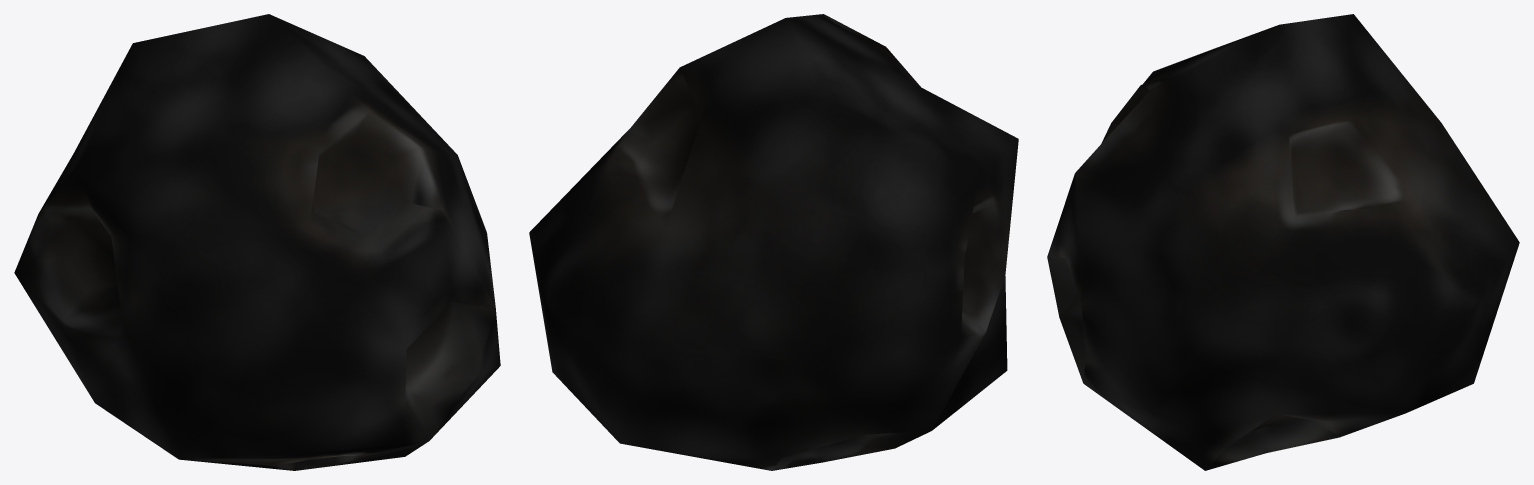
Rendered from Asteroid_Version2_3.fbx.
3 renders of one model, left to right at view 1: azimuth 30°, elevation 25°; view 2: azimuth 150°, elevation 25°; view 3: azimuth 270°, elevation 25°, orthographic. The views are drawn at different scales.
Visible parts, largest first — view 1: asteroid env | 1; view 2: asteroid env | 1; view 3: asteroid env | 1.
Boxes of the visible parts, <box> form: asteroid env | 1: <box>14,14,500,470</box>; asteroid env | 1: <box>529,14,1018,470</box>; asteroid env | 1: <box>1047,14,1519,470</box>.
Bounding box in the file's own units: 178 × 174 × 184.
